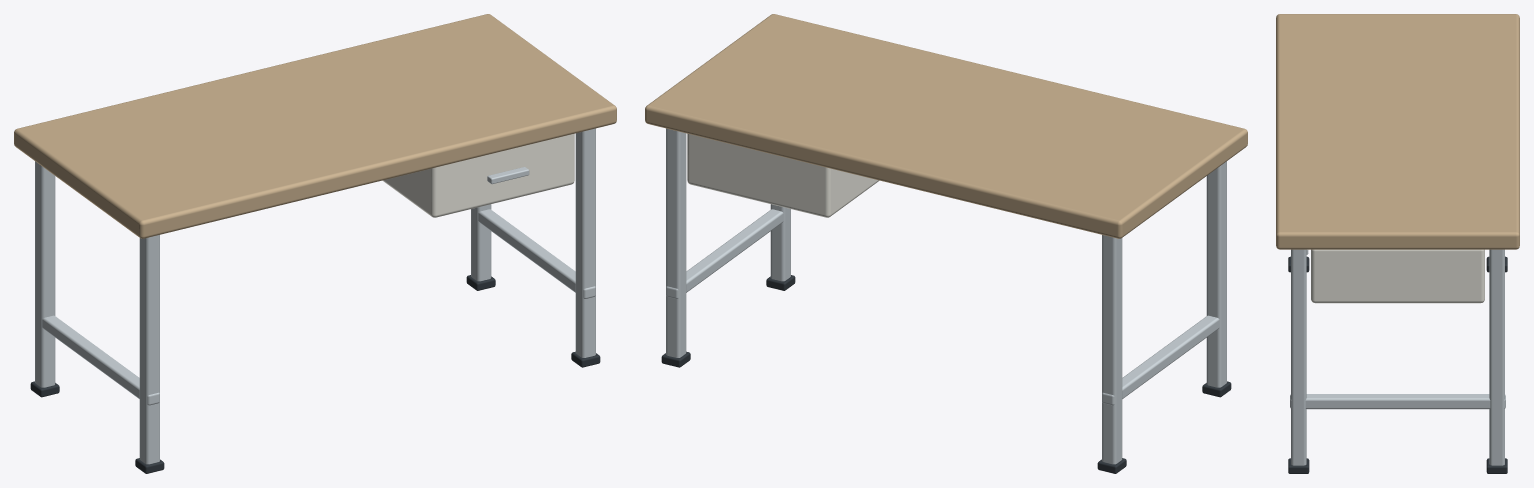
File: curling-club-and-ice-maintenance-officials-desk-4e755458__31282.glb
3 renders of one model, left to right at view 1: azimuth 30°, elevation 25°; view 2: azimuth 150°, elevation 25°; view 3: azimuth 270°, elevation 25°, orthographic. The views are drawn at different scales.
Parts seen in each view (by area): view 1: officials-desk; view 2: officials-desk; view 3: officials-desk.
Part boxes in pixels (x1,y1,x2,y2): officials-desk: (14, 14, 616, 473); officials-desk: (645, 14, 1247, 473); officials-desk: (1276, 14, 1519, 473).
Size of the model in its own units: 1.5 by 0.78 by 0.6999.
